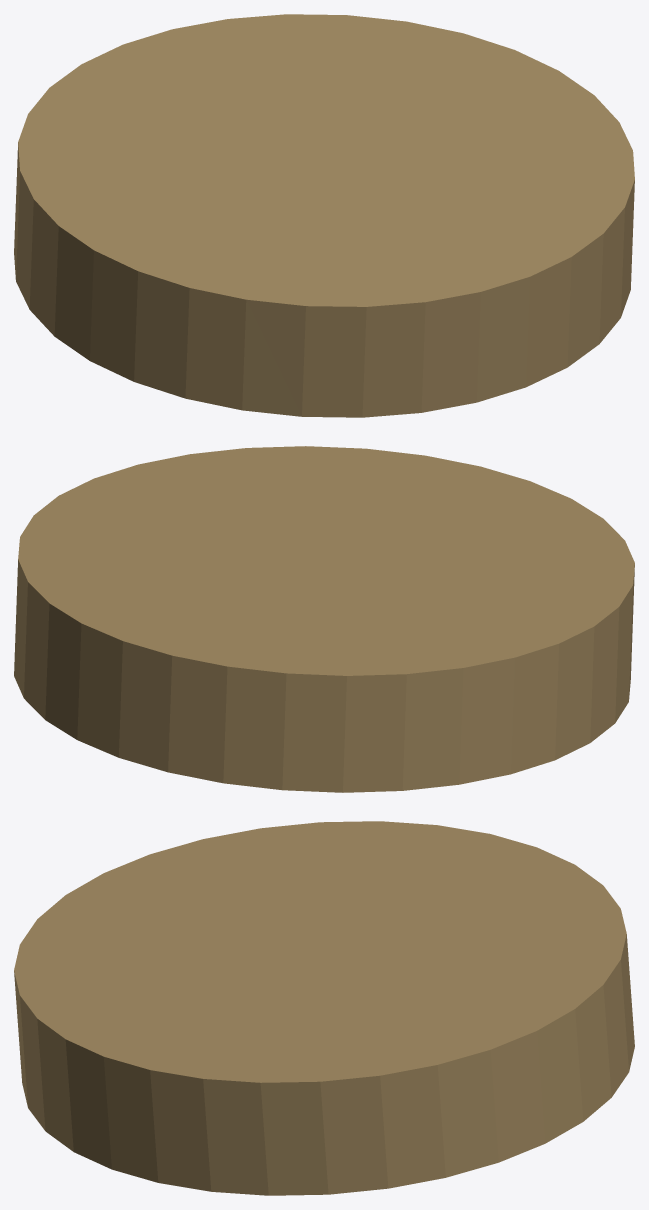
The model's file is right_shoulder_x_link_visual_3.obj.light.glb.
The picture shows the model from 3 angles, top to bottom: view 1: azimuth 30°, elevation 25°; view 2: azimuth 150°, elevation 25°; view 3: azimuth 270°, elevation 25°; orthographic projection.
Bounding box in the file's own units: 0.1667 × 0.0448 × 0.1686.
